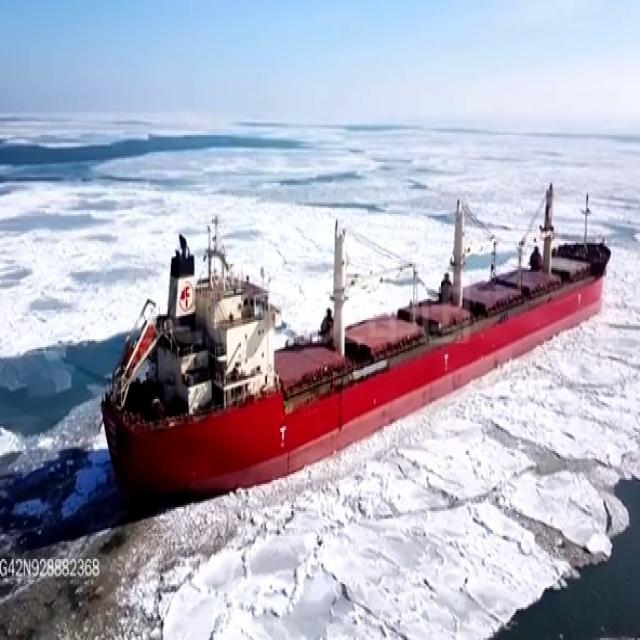cargoship: (92, 182, 610, 476)
